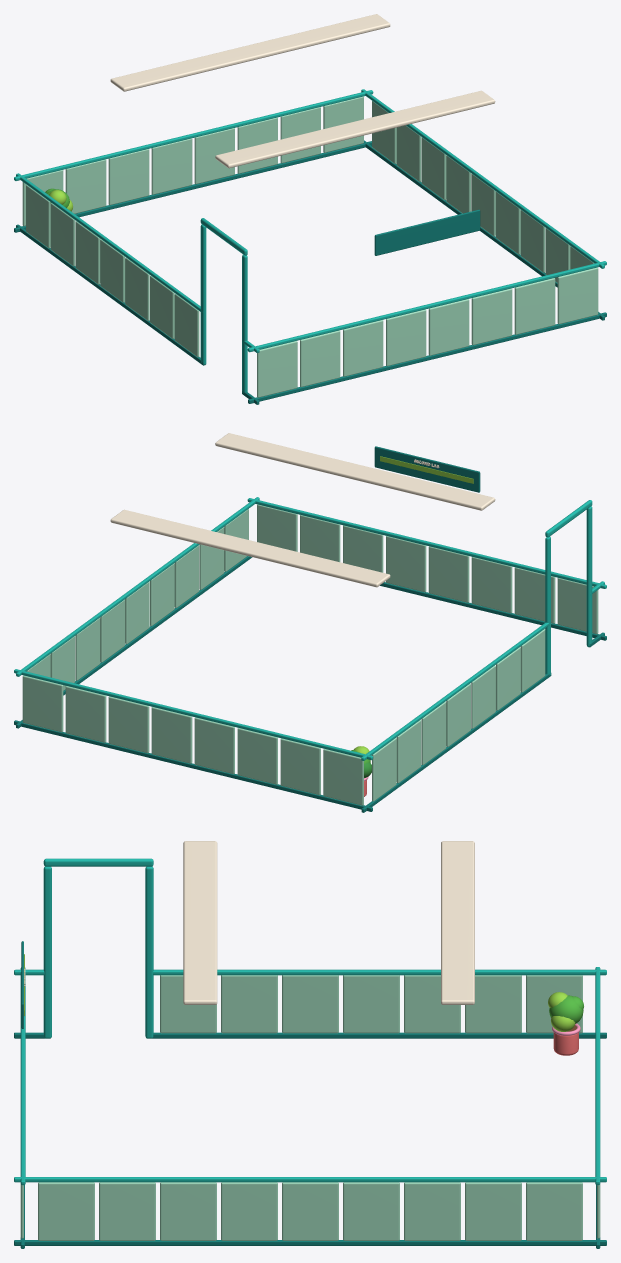
The model's file is SecondLabDressing.fbx.
3 renders of one model, top to bottom at view 1: azimuth 30°, elevation 25°; view 2: azimuth 150°, elevation 25°; view 3: azimuth 270°, elevation 25°, orthographic. The views are drawn at different scales.
Parts seen in each view (by area): view 1: SecondLabDressing mesh; view 2: SecondLabDressing mesh; view 3: SecondLabDressing mesh.
Boxes of the visible parts, x1,y1,x2,y2 form: SecondLabDressing mesh: (14, 14, 606, 404); SecondLabDressing mesh: (14, 433, 606, 812); SecondLabDressing mesh: (14, 841, 606, 1248).
Bounding box in the file's own units: 7.5 × 3.6 × 8.75.
